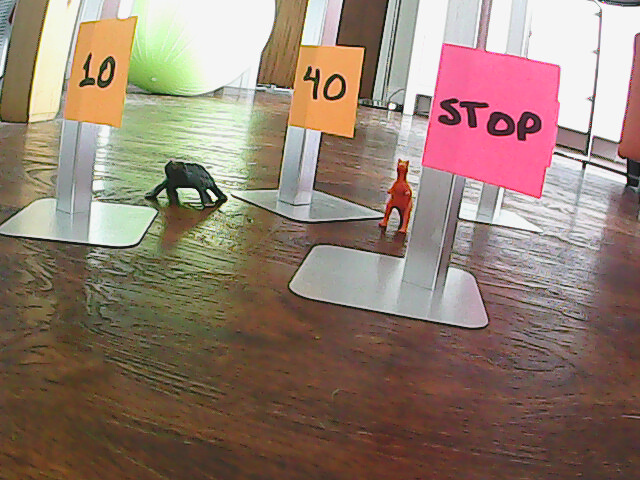10: (59, 14, 140, 128)
40: (288, 43, 360, 136)
dinosaur: (376, 156, 414, 236)
stop: (427, 45, 553, 184)
turtle: (142, 157, 230, 216)
